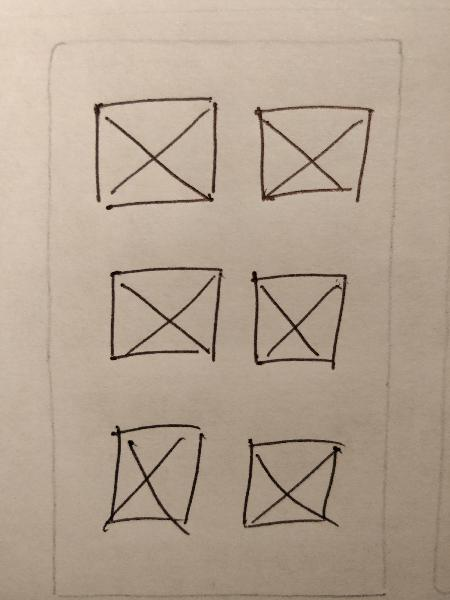image: (86, 82, 224, 217), (93, 416, 216, 538), (247, 98, 380, 208), (100, 260, 228, 371), (233, 426, 348, 537), (245, 264, 350, 372)
